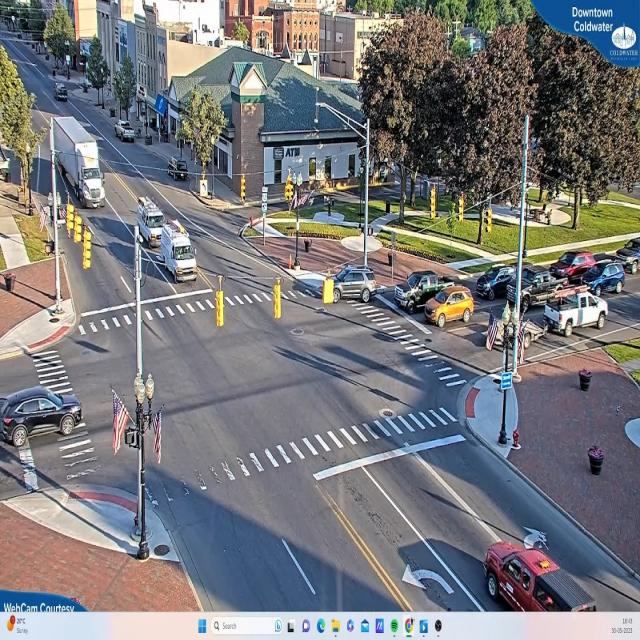car: (487, 544, 602, 612), (1, 390, 83, 447), (544, 290, 608, 338), (474, 267, 540, 301), (424, 288, 474, 327), (399, 273, 454, 308), (329, 265, 376, 302), (580, 264, 626, 295), (548, 252, 598, 279), (138, 206, 168, 247), (525, 528, 552, 552), (115, 123, 137, 144)
truck: (53, 120, 105, 208)
